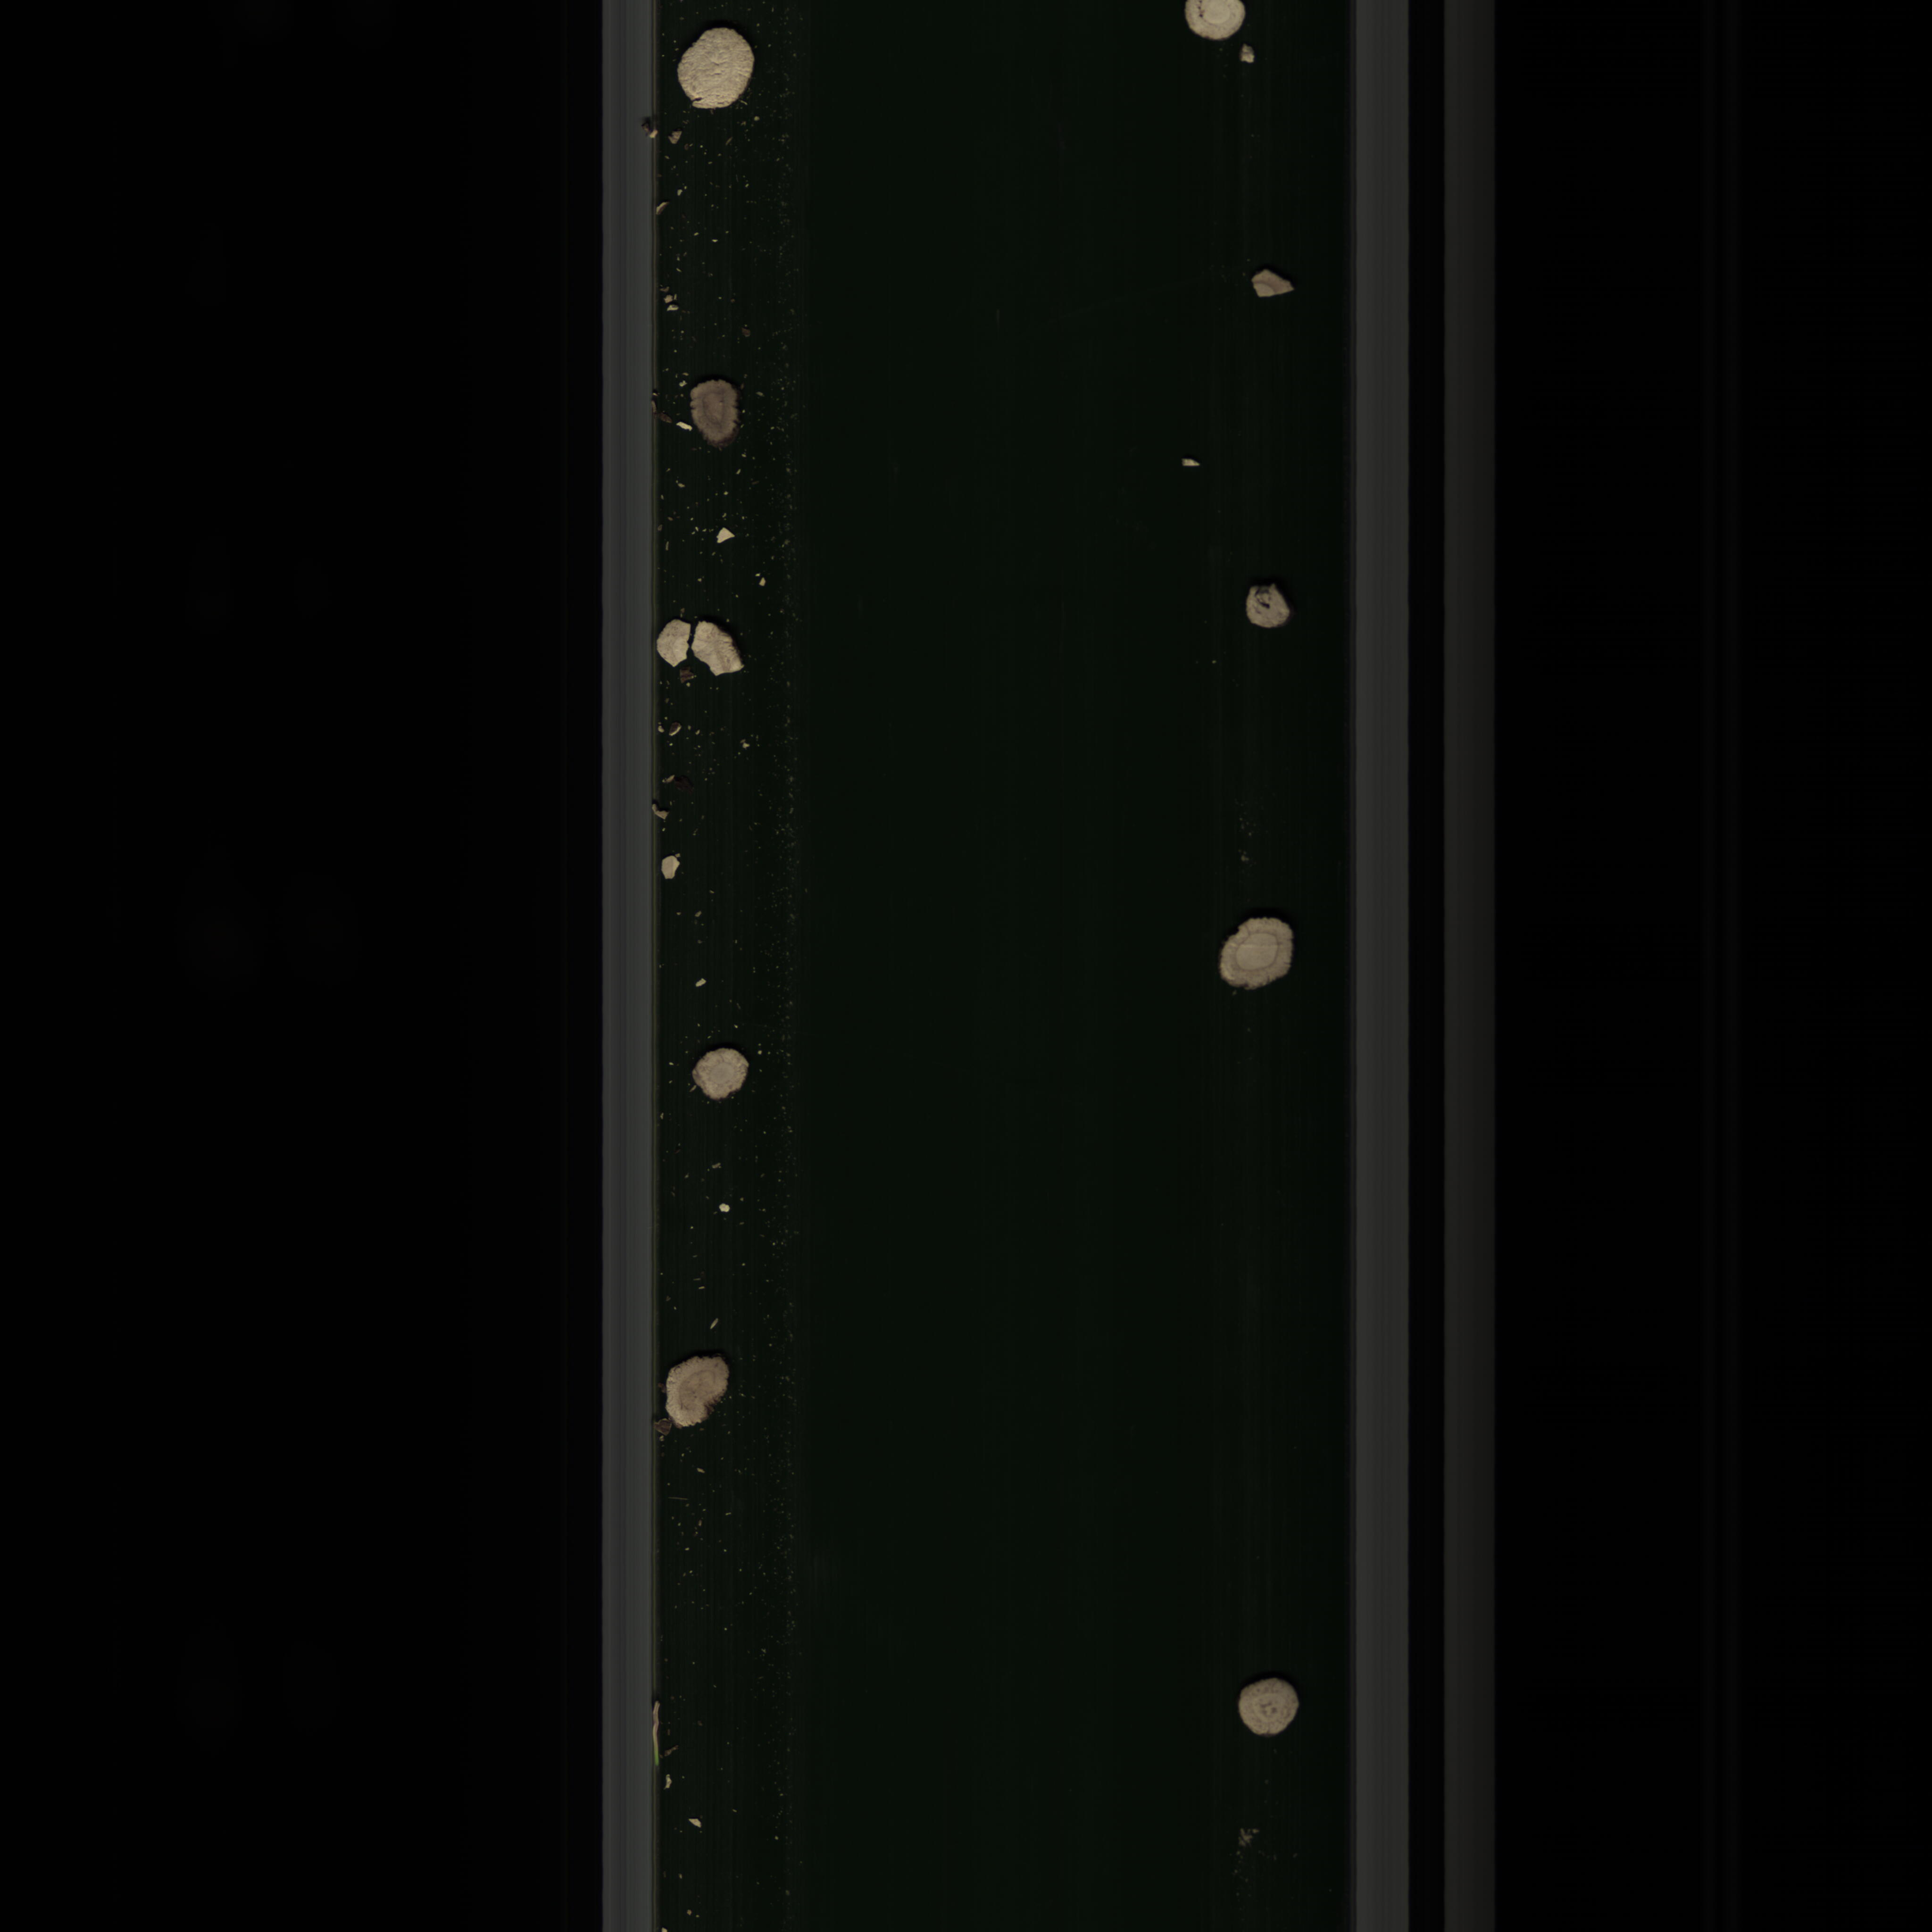debris: (694, 614, 750, 678), (1246, 262, 1304, 308), (656, 617, 694, 678)
distortion: (663, 1348, 736, 1435)
hole: (1233, 577, 1302, 644)
moldy: (683, 373, 757, 458)
